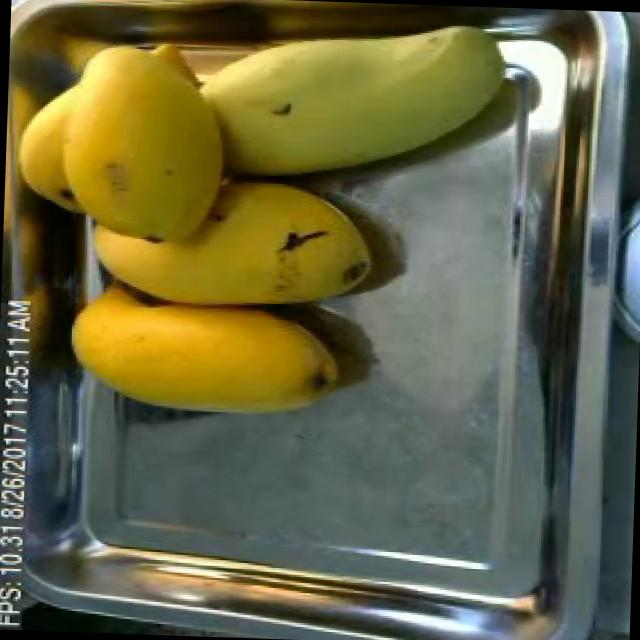fruit: (173, 1, 520, 195), (2, 23, 248, 263), (75, 160, 392, 306), (64, 291, 348, 427)
